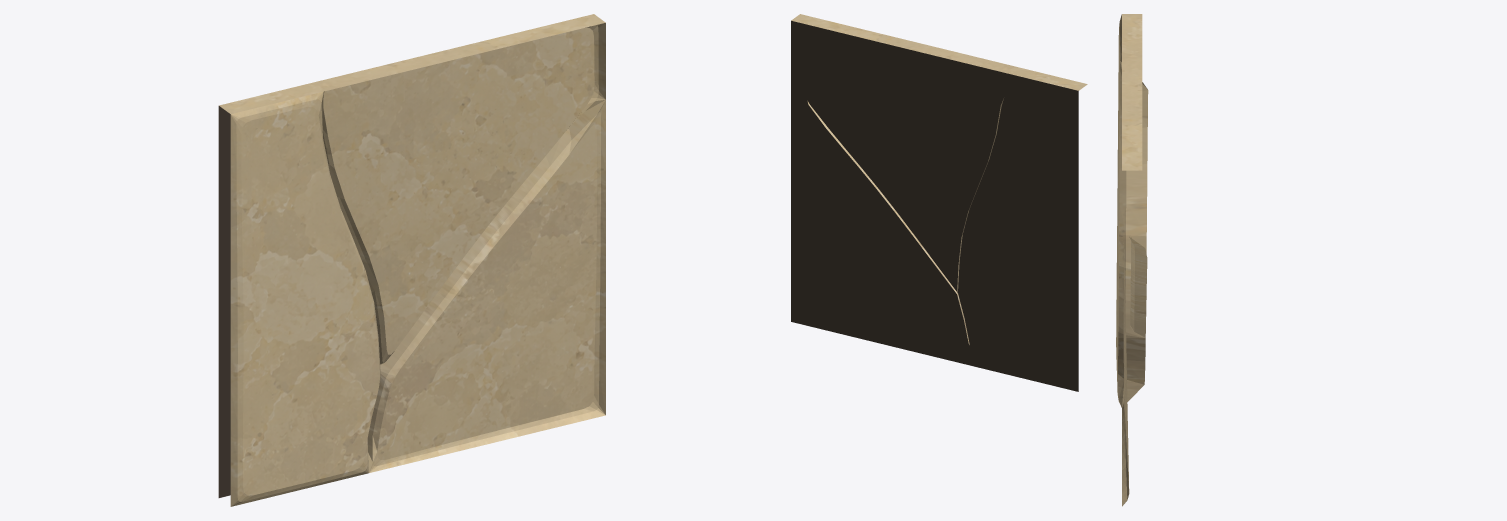
File: ground_square_edge_08.glb
The picture shows the model from 3 angles, left to right: view 1: azimuth 30°, elevation 25°; view 2: azimuth 150°, elevation 25°; view 3: azimuth 270°, elevation 25°; orthographic projection. The views are drawn at different scales.
Visible parts, largest first — view 1: GroundSquareEdge08_Body; view 2: GroundSquareEdge08_Body; view 3: GroundSquareEdge08_Body.
Boxes of the visible parts, x1=… form: GroundSquareEdge08_Body: x1=218, y1=14, x2=605, y2=506; GroundSquareEdge08_Body: x1=791, y1=14, x2=1087, y2=391; GroundSquareEdge08_Body: x1=1116, y1=14, x2=1148, y2=506.
Size of the model in its own units: 1 by 1 by 1.02.
5 materials, 4 textured.
